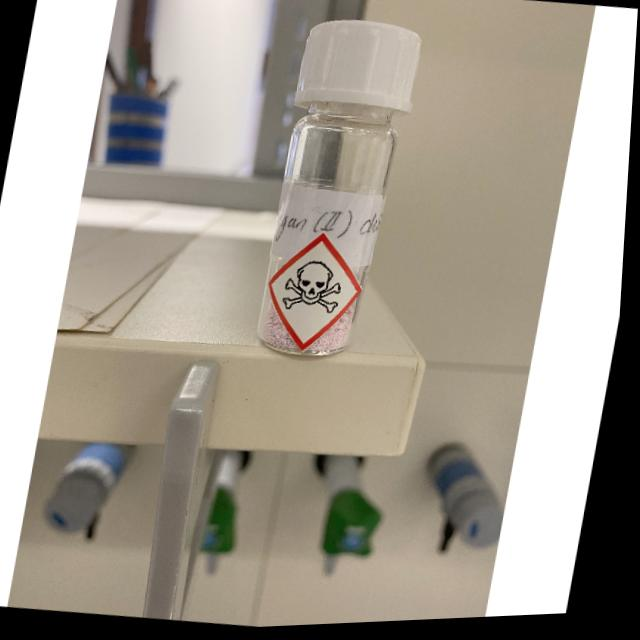acute toxicity: (260, 227, 375, 363)
